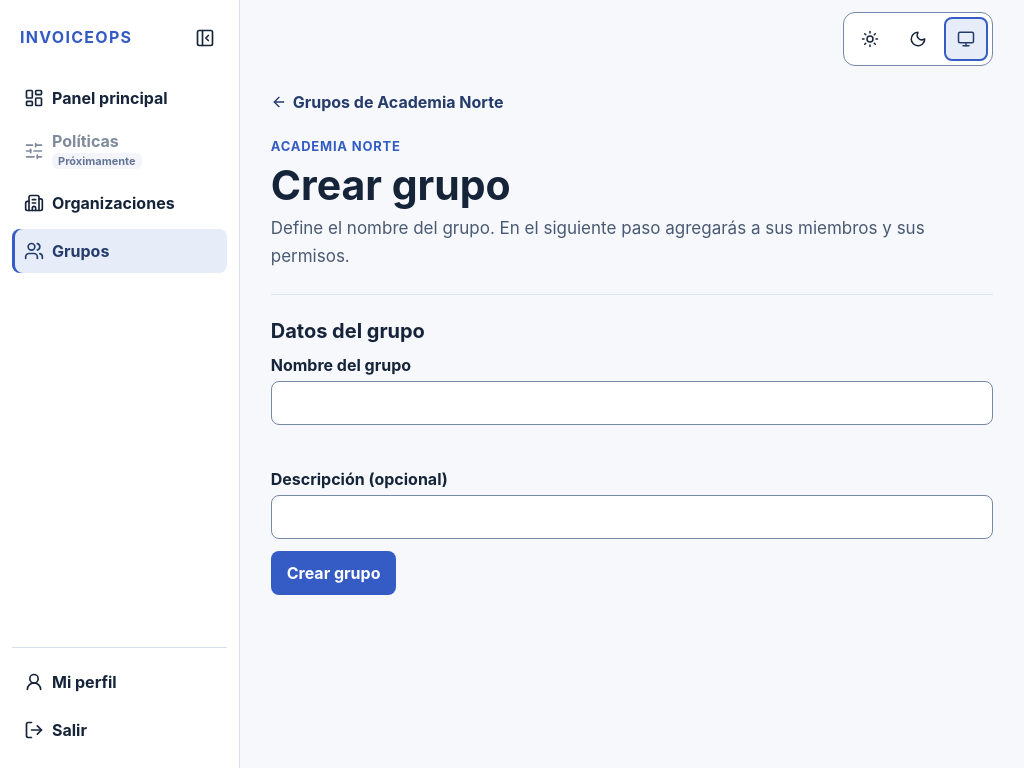
GroupForm (create) › validates the name before sending anything
This screenshot has width=1024, height=768.
Click the button "Crear grupo". click: (334, 573)
box: [271,551,396,595]
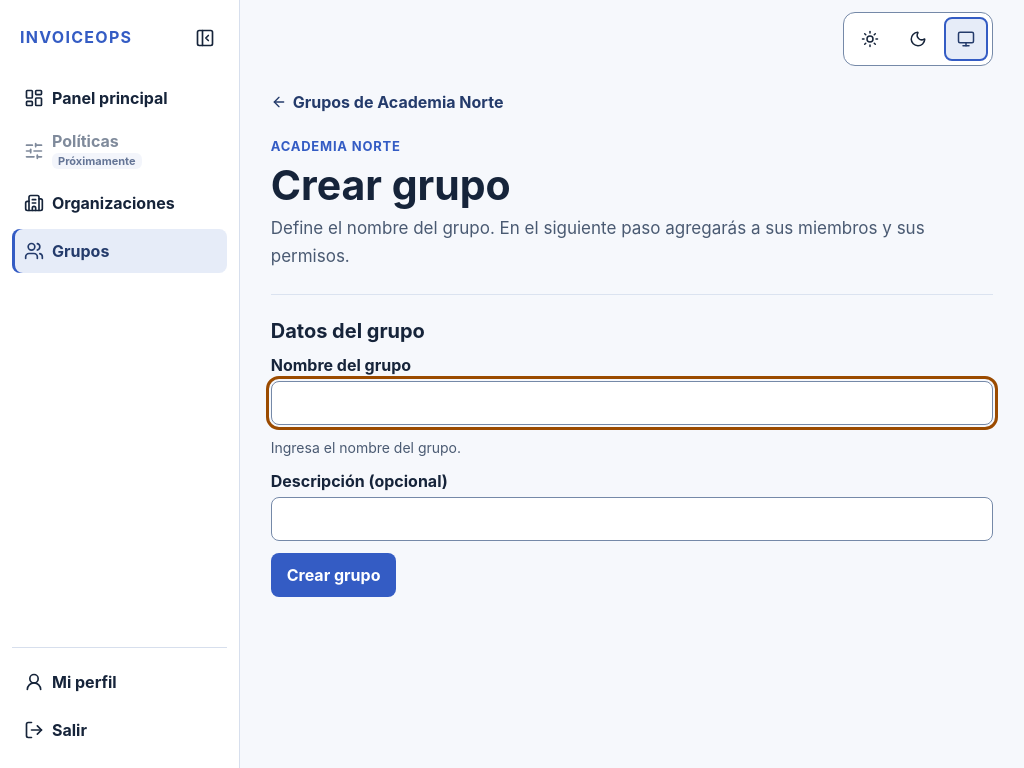
Result: the text "Ingresa el nombre del grupo." is shown at [271,439,461,456]
